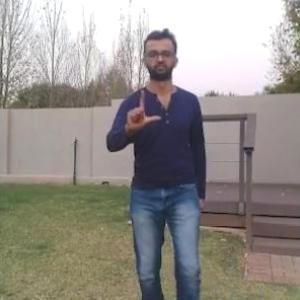land_hand: (122, 86, 161, 135)
